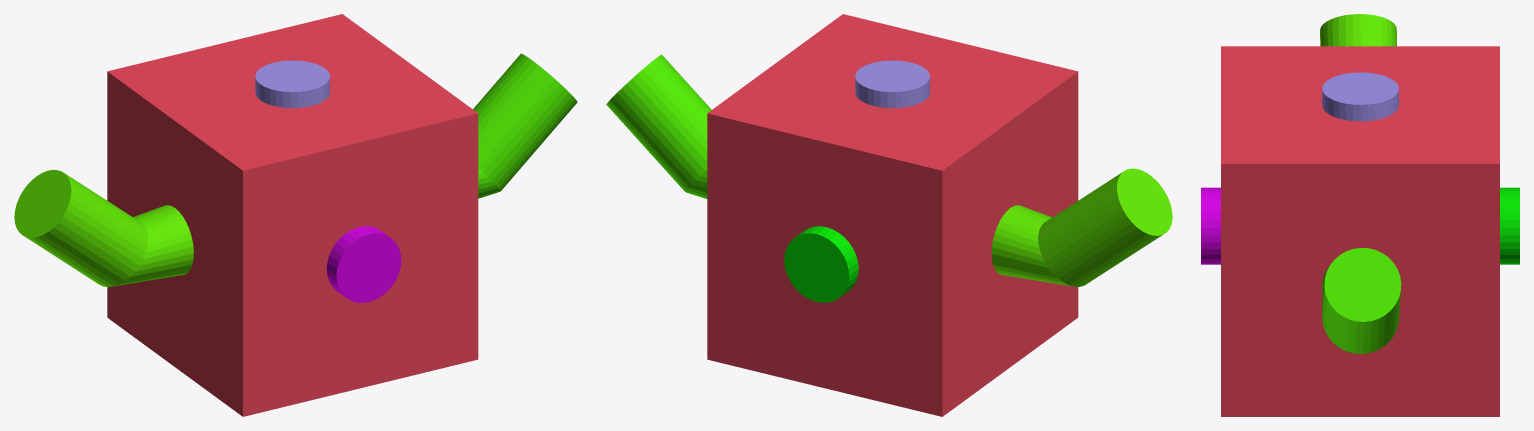
Rendered from grubo.gltf.
The picture shows the model from 3 angles, left to right: view 1: azimuth 30°, elevation 25°; view 2: azimuth 150°, elevation 25°; view 3: azimuth 270°, elevation 25°; orthographic projection. The views are drawn at different scales.
Parts seen in each view (by area): view 1: Cube, Cylinder.006, Cylinder.001, Cylinder.005, Cylinder; view 2: Cube, Cylinder.006, Cylinder.001, Cylinder.004, Cylinder; view 3: Cube, Cylinder.001, Cylinder, Cylinder.006, Cylinder.004, Cylinder.005.
Part boxes in pixels (x1=…): Cube: x1=107, y1=14, x2=478, y2=416; Cylinder.006: x1=14, y1=169, x2=193, y2=287; Cylinder.001: x1=473, y1=53, x2=577, y2=198; Cylinder.005: x1=326, y1=226, x2=401, y2=302; Cylinder: x1=255, y1=60, x2=329, y2=108; Cube: x1=707, y1=14, x2=1078, y2=416; Cylinder.006: x1=991, y1=168, x2=1172, y2=286; Cylinder.001: x1=606, y1=54, x2=711, y2=198; Cylinder.004: x1=784, y1=226, x2=858, y2=302; Cylinder: x1=855, y1=60, x2=929, y2=108; Cube: x1=1221, y1=46, x2=1499, y2=416; Cylinder.001: x1=1322, y1=248, x2=1401, y2=353; Cylinder: x1=1322, y1=72, x2=1398, y2=121; Cylinder.006: x1=1320, y1=14, x2=1396, y2=46; Cylinder.004: x1=1500, y1=187, x2=1519, y2=264; Cylinder.005: x1=1201, y1=187, x2=1220, y2=264.
Bounding box in the file's own units: 2 × 0.9625 × 0.9777.
